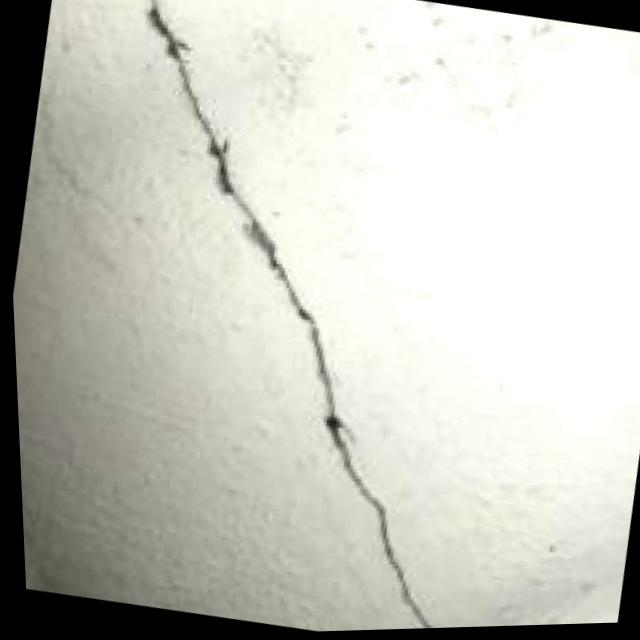Crack: (26, 0, 565, 639)
